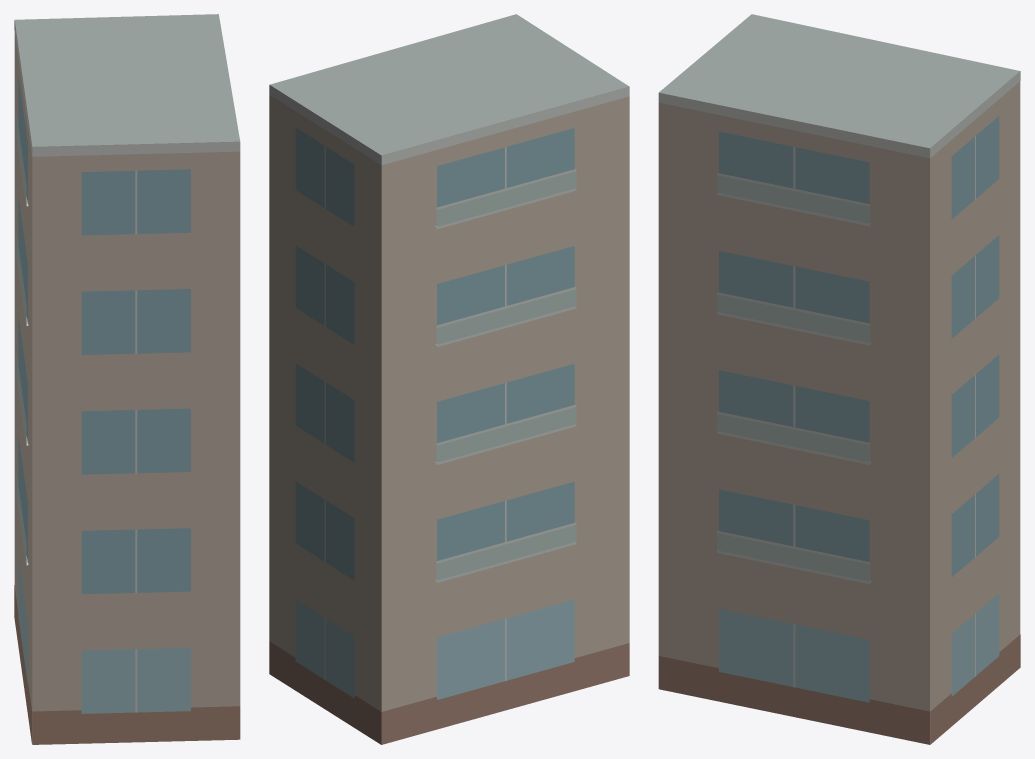
The model's file is survey-upis-32727892.glb.
3 renders of one model, left to right at view 1: azimuth 30°, elevation 25°; view 2: azimuth 150°, elevation 25°; view 3: azimuth 270°, elevation 25°, orthographic.
Parts seen in each view (by area): view 1: survey-upis-32727892.tmp; view 2: survey-upis-32727892.tmp; view 3: survey-upis-32727892.tmp.
Boxes of the visible parts, <box> form: survey-upis-32727892.tmp: <box>14,14,240,744</box>; survey-upis-32727892.tmp: <box>269,14,629,744</box>; survey-upis-32727892.tmp: <box>658,14,1020,744</box>.
Size of the model in its own units: 7.06 by 14.6 by 8.03.
